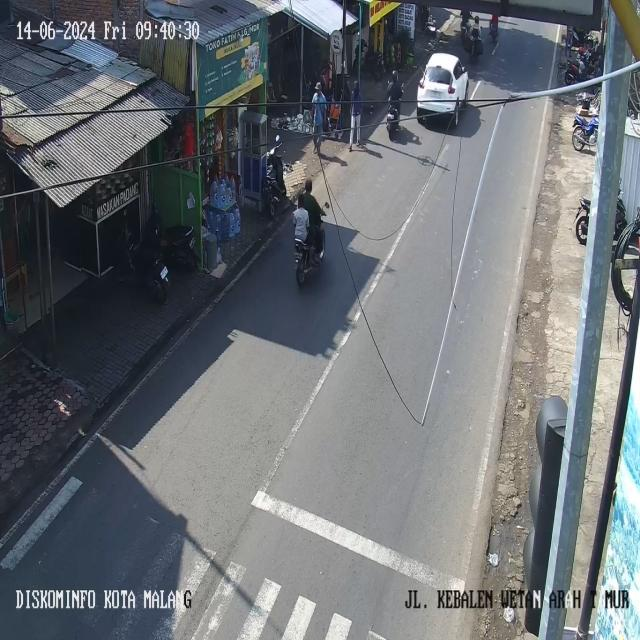Helmet: (392, 70, 398, 81), (474, 16, 478, 23)
Number Plate: (160, 266, 167, 278)
